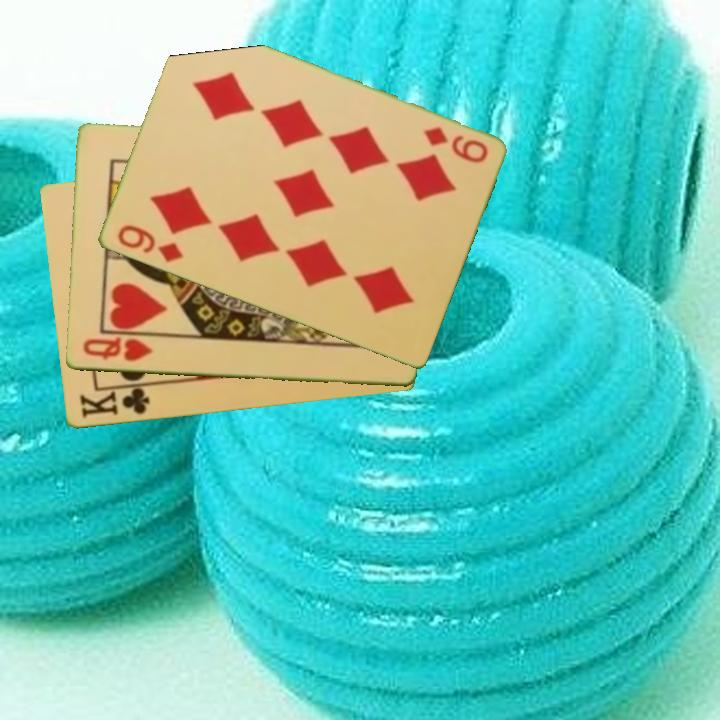9d: (113, 221, 186, 266), (419, 123, 491, 167)
Kc: (75, 382, 156, 421)
Qh: (79, 334, 154, 365)
